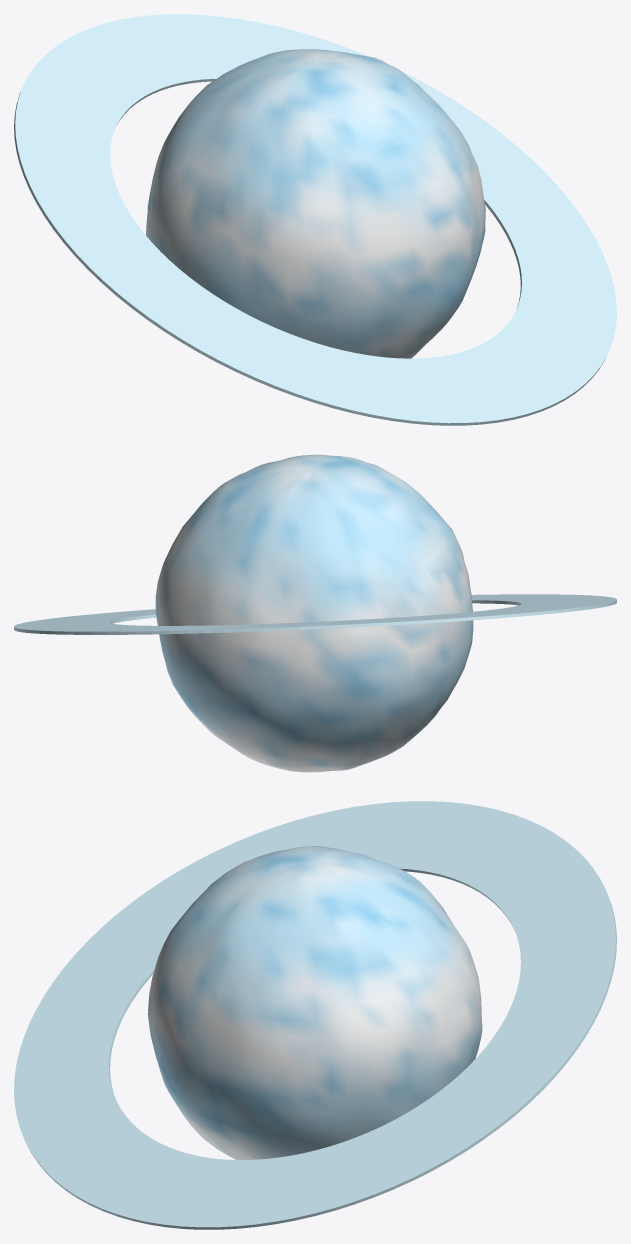
Rendered from planet_questions.glb.
The picture shows the model from 3 angles, top to bottom: view 1: azimuth 30°, elevation 25°; view 2: azimuth 150°, elevation 25°; view 3: azimuth 270°, elevation 25°; orthographic projection. The views are drawn at different scales.
Visible parts, largest first — view 1: Ring, Surface; view 2: Surface, Ring; view 3: Ring, Surface.
Boxes of the visible parts, x1,y1,x2,y2 form: Ring: (14, 14, 616, 425); Surface: (146, 49, 485, 358); Surface: (155, 454, 473, 772); Ring: (14, 594, 616, 634); Ring: (14, 801, 616, 1229); Surface: (147, 846, 482, 1159).
Bounding box in the file's own units: 3.7 × 2 × 3.62.
